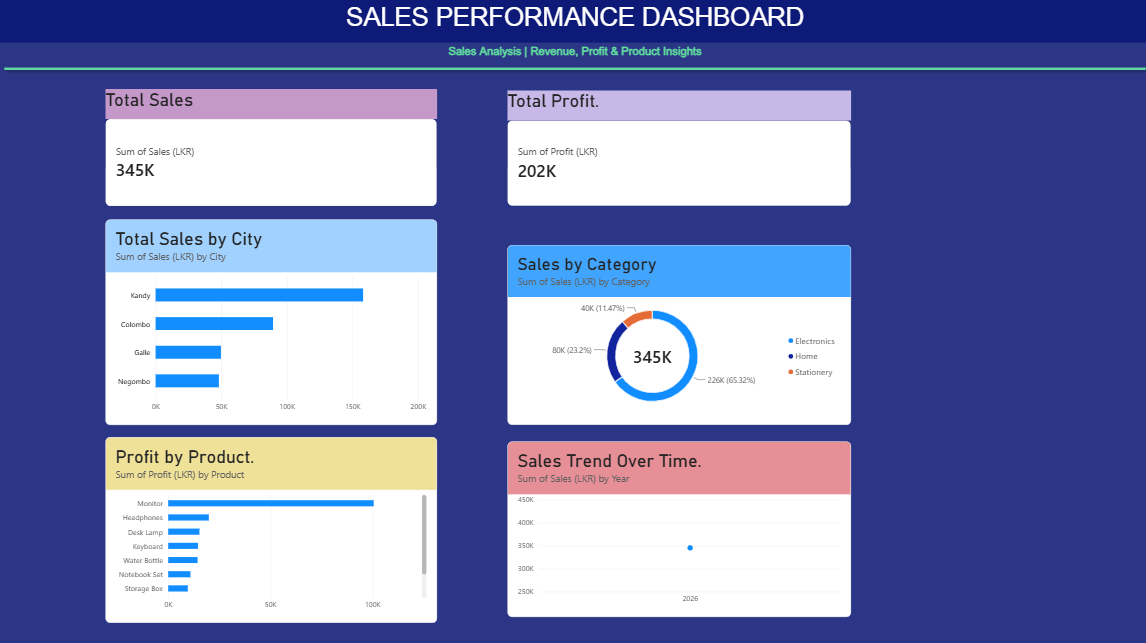

What the dashboard file says about the page in this screenshot:
{"tool":"powerbi","page":{"name":"Page 1","canvas":[1920,1080],"ordinal":0},"visuals":[{"type":"clusteredBarChart","title":"Total Sales by City","fields":{"Category":["SalesData.City"],"Y":["Sum(SalesData.Sales (LKR))"]},"box":[177.5,367.5,552.5,342.5],"z":0},{"type":"donutChart","title":"Sales by Category","fields":{"Category":["SalesData.Category"],"Y":["Sum(SalesData.Sales (LKR))"]},"box":[847.5,410,572.5,300],"z":1000},{"type":"clusteredBarChart","title":"Profit by Product.","fields":{"Category":["SalesData.Product"],"Y":["Sum(SalesData.Profit (LKR))"]},"box":[177.5,730,552.5,310],"z":2000},{"type":"cardVisual","title":"Total Profit.","fields":{"Data":["Sum(SalesData.Profit (LKR))"]},"box":[847.5,152.5,572.5,192.5],"z":3000},{"type":"lineChart","title":"Sales Trend Over Time.","fields":{"Category":["SalesData.Date.Variation.Date Hierarchy.Year","SalesData.Date.Variation.Date Hierarchy.Quarter","SalesData.Date.Variation.Date Hierarchy.Month","SalesData.Date.Variation.Date Hierarchy.Day"],"Y":["Sum(SalesData.Sales (LKR))"]},"box":[847.5,737.5,572.5,292.5],"z":4000},{"type":"cardVisual","title":"Total Sales","fields":{"Data":["Sum(SalesData.Sales (LKR))"]},"box":[177.5,150,552.5,195],"z":5000},{"type":"textbox","title":"SALES PERFORMANCE DASHBOARD","box":[0,0,1725,115],"z":6000},{"type":"shape","box":[0,10,1775,212.5],"z":6001}]}

Visuals, with their boxes in screenshot pixels (x1, y1, x2, y2), scaled from the page's 1920x1080 canvas onto the 1146x643 screenshot:
"Total Sales by City" clusteredBarChart: box(106, 219, 436, 423)
"Sales by Category" donutChart: box(506, 244, 848, 423)
"Profit by Product." clusteredBarChart: box(106, 435, 436, 619)
"Total Profit." cardVisual: box(506, 91, 848, 205)
"Sales Trend Over Time." lineChart: box(506, 439, 848, 613)
"Total Sales" cardVisual: box(106, 89, 436, 205)
"SALES PERFORMANCE DASHBOARD" textbox: box(0, 0, 1030, 68)
shape: box(0, 6, 1059, 132)
